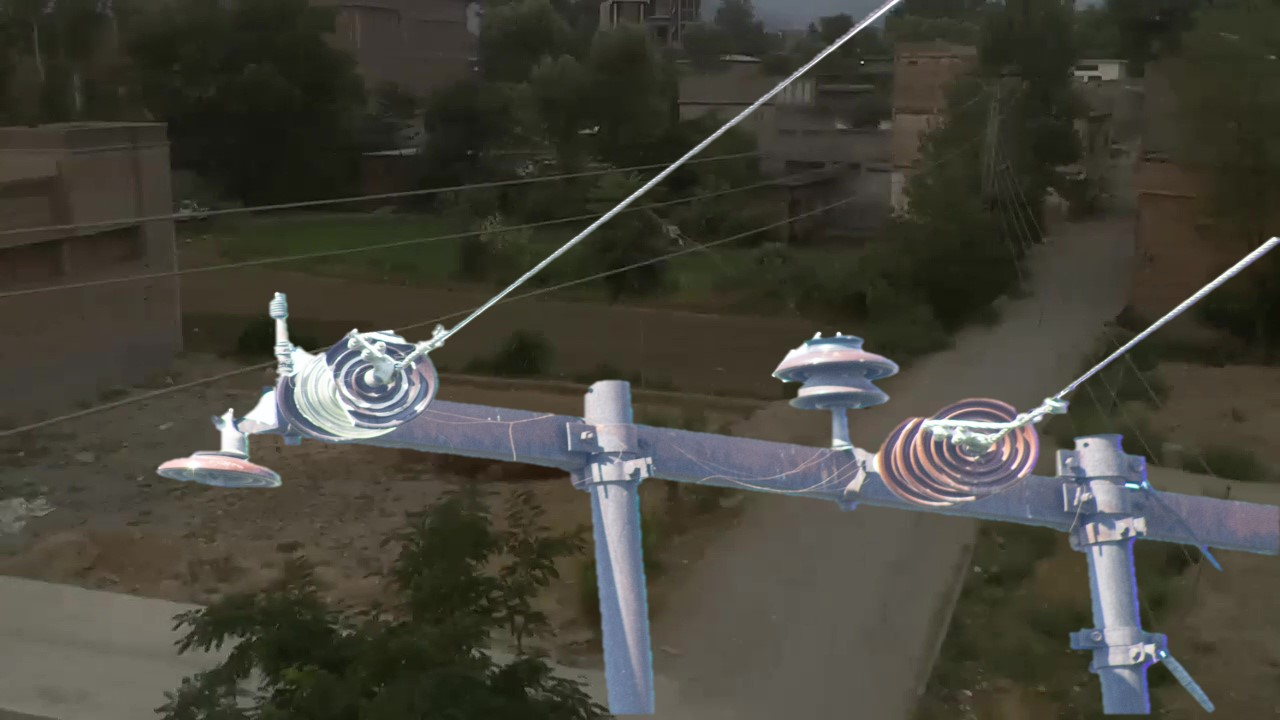defect_disc: (319, 325, 444, 443)
insulator_disc: (913, 391, 1043, 497), (149, 434, 293, 496)
